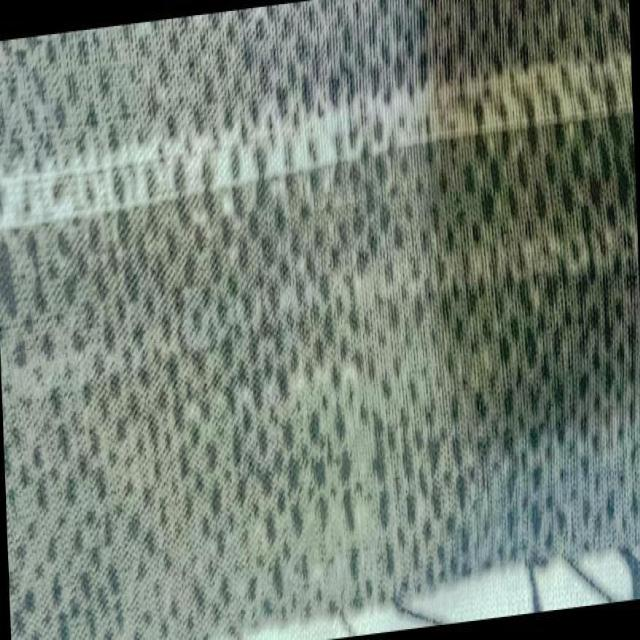selvet: (0, 267, 310, 399), (0, 113, 332, 225), (329, 44, 633, 164), (312, 215, 639, 315)
